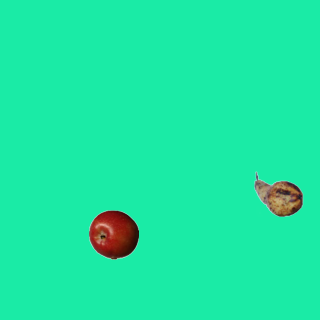Apple Braeburn: (88, 209, 138, 259)
Pear Abate: (253, 169, 303, 219)
